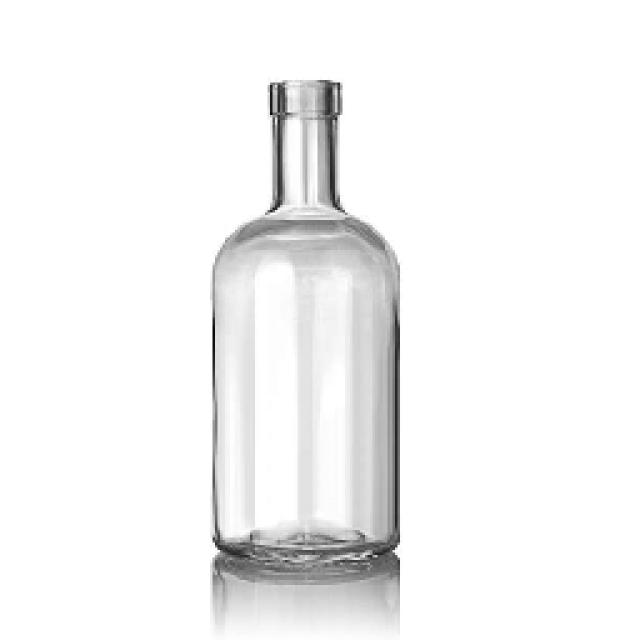glass_beverage_bottles: (206, 67, 402, 565)
